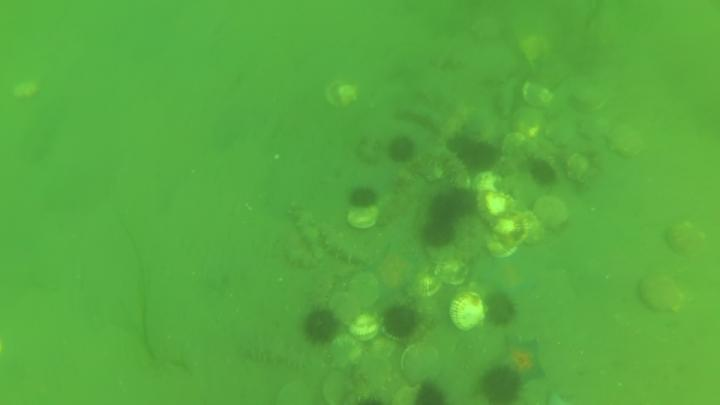echinus: (480, 365, 525, 405), (483, 290, 519, 329), (304, 308, 338, 347), (384, 304, 420, 339), (461, 142, 500, 174), (421, 219, 457, 249), (429, 194, 465, 224), (389, 136, 418, 165), (416, 382, 448, 405), (350, 186, 379, 209), (531, 161, 556, 187)
holothurian: (243, 336, 310, 372), (285, 211, 325, 270), (322, 229, 373, 267), (356, 353, 391, 403), (434, 104, 473, 148), (438, 150, 473, 192), (496, 74, 520, 122), (427, 52, 469, 74)
scallop: (637, 270, 689, 320), (400, 343, 444, 387), (665, 216, 709, 258), (449, 290, 490, 335), (490, 207, 531, 250), (323, 76, 366, 116), (608, 121, 652, 160), (476, 189, 519, 228), (532, 196, 573, 233), (348, 271, 382, 312), (330, 333, 364, 370), (544, 117, 580, 150), (434, 254, 469, 287), (564, 148, 597, 183), (328, 291, 360, 327), (521, 78, 557, 110), (569, 87, 610, 114), (7, 78, 48, 105), (349, 314, 383, 344), (410, 270, 444, 299), (347, 205, 383, 232), (520, 34, 547, 66), (276, 382, 312, 405), (485, 236, 518, 260), (501, 132, 530, 159), (323, 378, 350, 405), (392, 388, 419, 405)
starfish: (496, 335, 549, 390), (479, 258, 541, 300), (372, 244, 416, 299)
